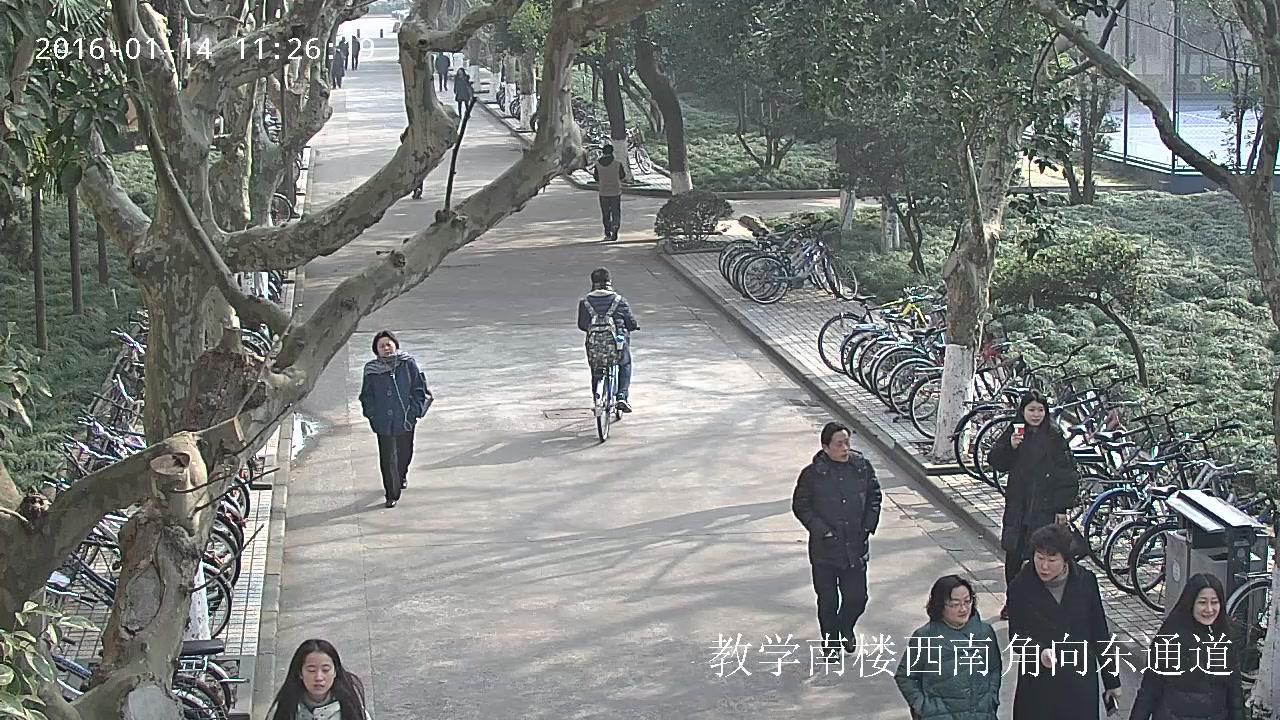person: (1008, 525, 1121, 720), (792, 422, 882, 663), (988, 395, 1074, 621), (1129, 573, 1245, 720), (895, 573, 1002, 720), (358, 330, 432, 508), (577, 268, 640, 443), (265, 640, 371, 720), (578, 268, 636, 412), (593, 144, 625, 240), (453, 67, 472, 119), (435, 52, 449, 92), (332, 50, 344, 88), (338, 37, 348, 69), (351, 35, 360, 69)
